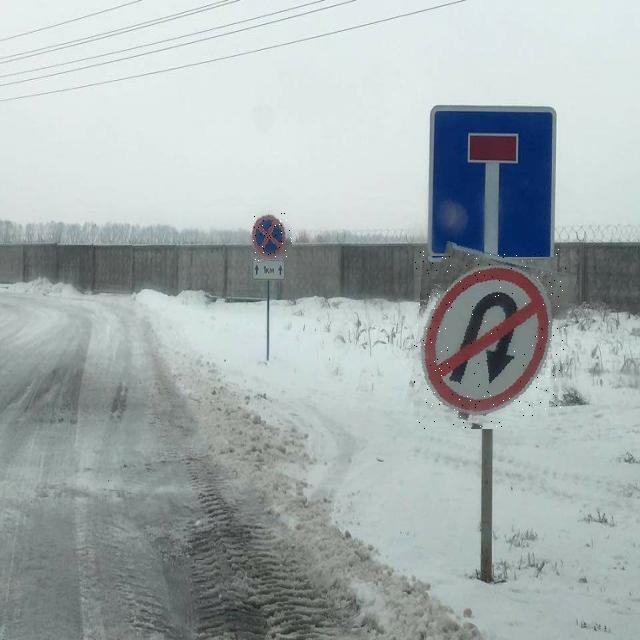no stopping: (249, 210, 292, 262)
no u turn: (414, 249, 567, 429)
